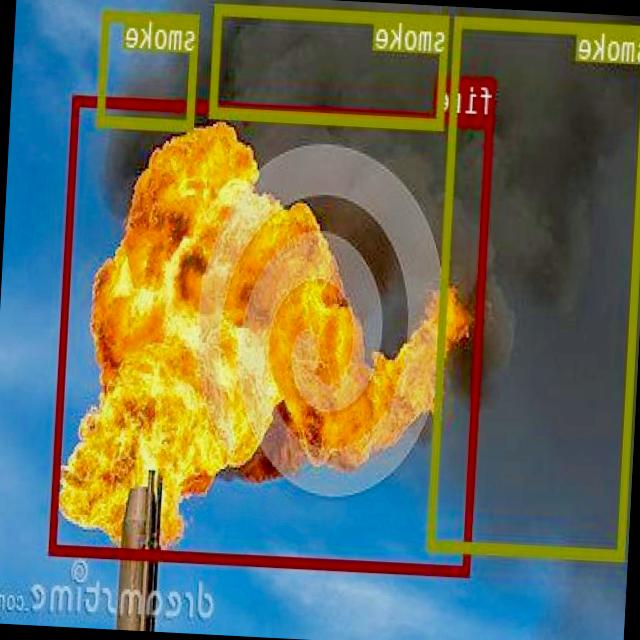fire: (51, 94, 494, 575)
smoke: (428, 13, 640, 558), (211, 3, 451, 126), (99, 8, 201, 128)
